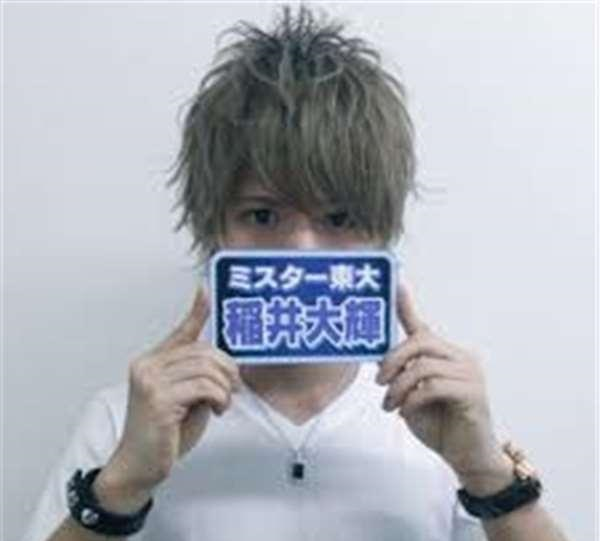face: (213, 133, 382, 347)
